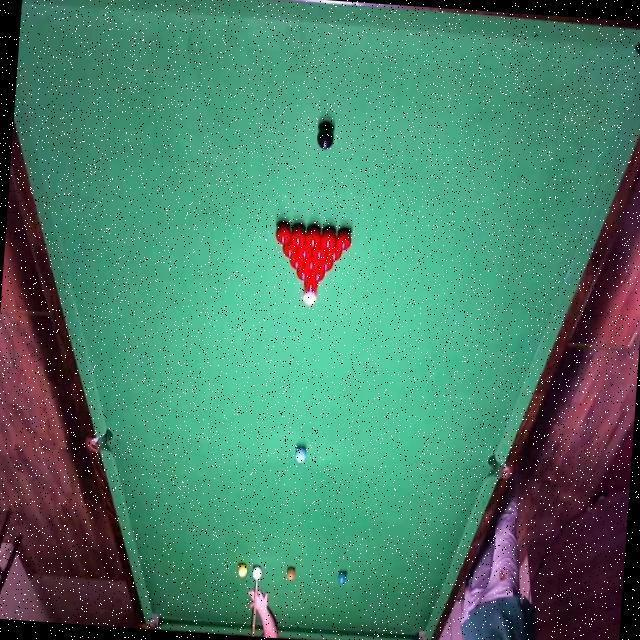Ball: (317, 122, 336, 150), (273, 219, 292, 244), (319, 226, 336, 249), (304, 225, 321, 248), (336, 228, 352, 250), (290, 223, 306, 245), (327, 244, 343, 262), (302, 289, 318, 306), (319, 255, 334, 272), (282, 242, 297, 258), (289, 252, 304, 268), (312, 244, 326, 260), (311, 268, 325, 284), (297, 265, 310, 282), (296, 241, 311, 255), (336, 569, 348, 586), (294, 447, 306, 464), (305, 255, 318, 270), (253, 563, 264, 579), (303, 280, 319, 291), (286, 565, 296, 581), (237, 563, 247, 578)
